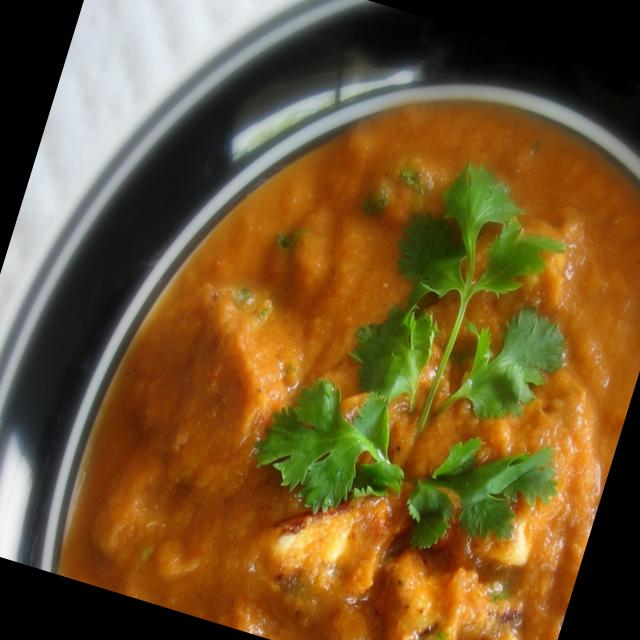ShahiPaneer: (45, 15, 640, 640)
